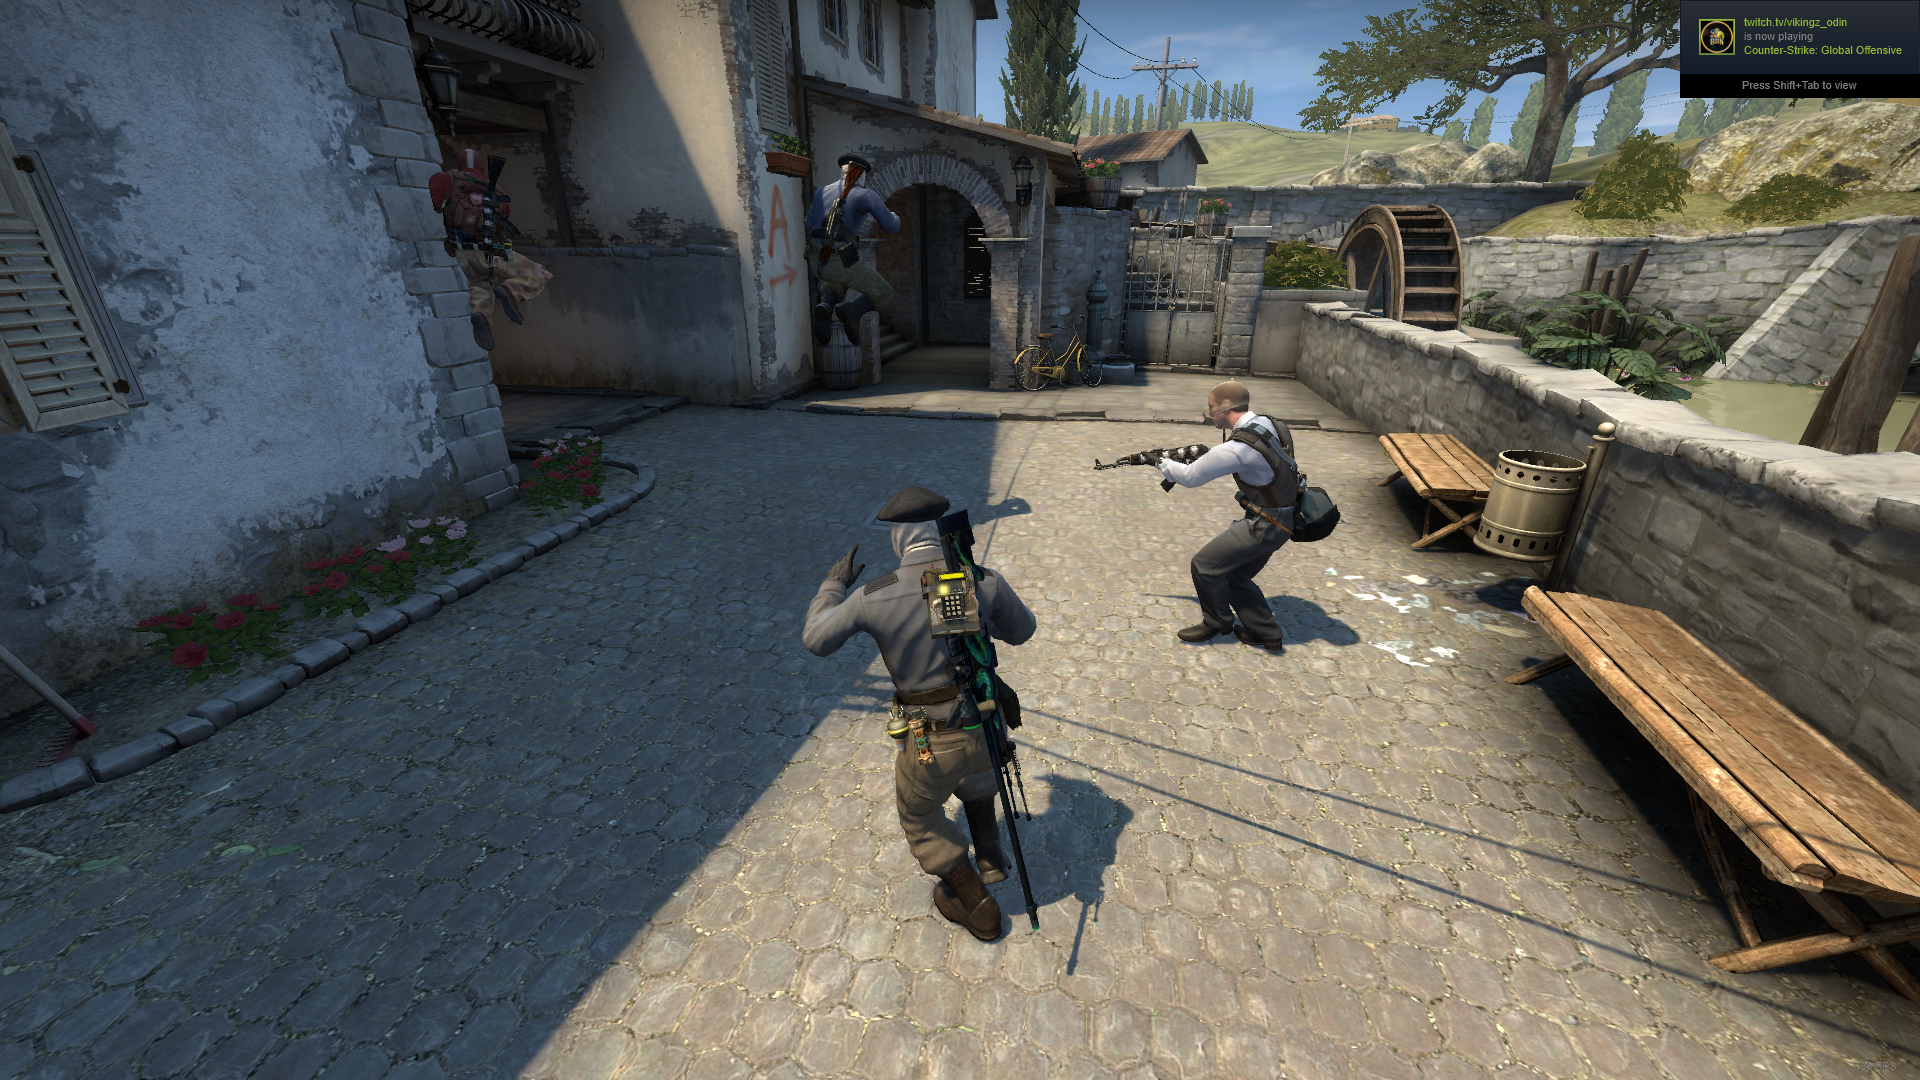t: (796, 485, 1081, 953), (800, 144, 911, 357)
